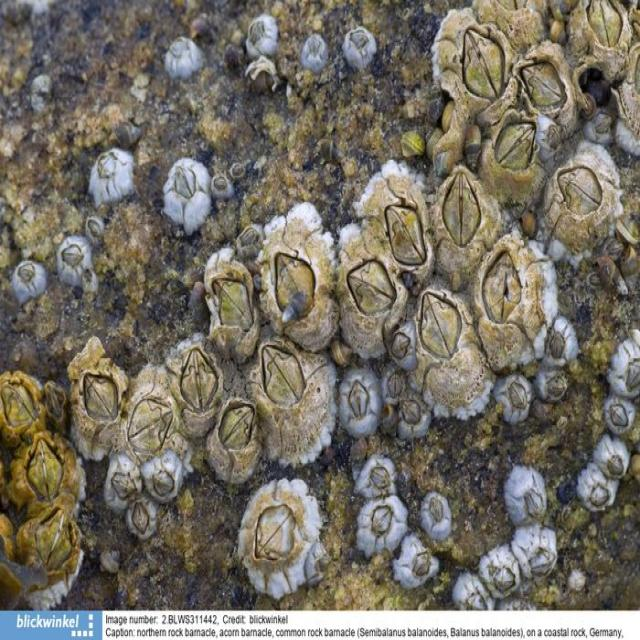barnacles: (232, 484, 324, 605), (256, 217, 338, 350), (252, 337, 334, 461), (476, 236, 549, 362), (425, 294, 488, 424), (369, 177, 439, 282), (546, 146, 618, 246), (516, 34, 581, 140), (446, 7, 515, 106), (71, 340, 126, 457), (337, 238, 397, 342), (430, 175, 493, 273), (119, 369, 180, 464), (16, 503, 84, 588), (204, 396, 264, 490), (200, 246, 252, 354), (485, 117, 547, 207), (171, 338, 222, 436), (12, 439, 78, 509), (160, 156, 212, 234), (334, 369, 385, 438), (355, 495, 408, 556), (87, 144, 133, 212), (0, 370, 47, 434), (389, 538, 443, 593), (503, 467, 549, 524), (158, 29, 206, 82), (342, 25, 387, 78), (515, 531, 558, 585), (294, 24, 332, 80), (486, 540, 520, 602), (54, 234, 93, 288), (609, 330, 640, 397), (495, 371, 531, 425), (580, 470, 618, 521), (140, 465, 186, 507), (9, 252, 46, 304), (419, 494, 457, 544), (241, 12, 277, 64), (399, 391, 432, 445), (390, 321, 420, 377), (600, 396, 637, 440), (354, 460, 400, 495), (102, 461, 139, 504), (595, 438, 631, 481), (547, 322, 581, 367), (126, 495, 158, 538), (536, 368, 566, 410), (384, 368, 405, 408)
